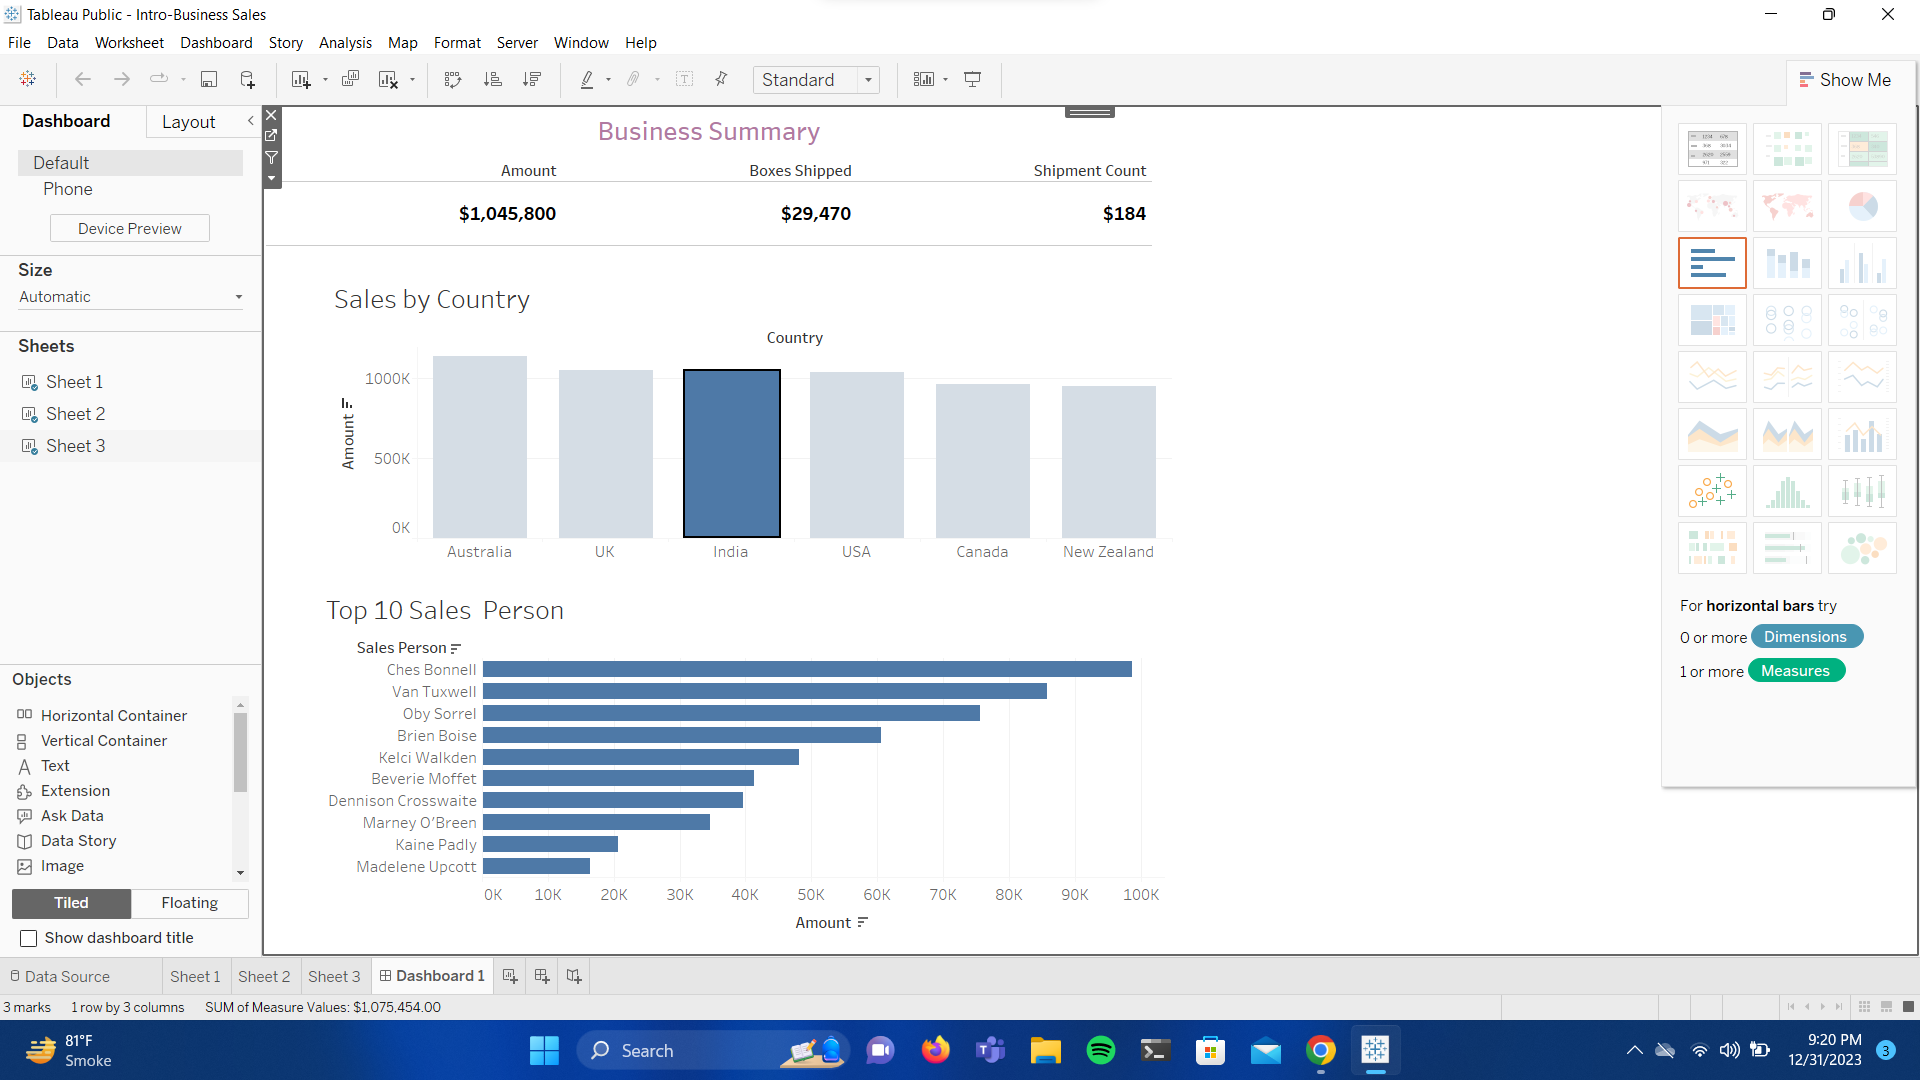

This screenshot's page, from the dashboard's own definition file:
{"tool":"tableau","page":{"name":"Dashboard 1","canvas":[1000,1000],"units":"permille","ordinal":0},"visuals":[{"type":"worksheet","title":"Sheet 3","mark":"Automatic","box":[0,0,1000,1000]},{"type":"worksheet","title":"Sheet 1","mark":"Automatic","rows":["Amount"],"cols":["Country"],"box":[41,202.1,508.8,353.7]},{"type":"worksheet","title":"Sheet 2","mark":"Automatic","rows":["Sales Person"],"cols":["Amount"],"box":[36.2,567.6,508.8,413.6]}]}

Visuals, with their boxes on the dashboard's canvas, which has no fixed pixel size, in thousandths of its width and height (x1, y1, x2, y2). These are canvas units, not pixel positions in the 1920x1080 screenshot, which may show the page scaled, cropped or inside an application window:
"Sheet 3" worksheet: region(0, 0, 1000, 1000)
"Sheet 1" worksheet: region(41, 202, 550, 556)
"Sheet 2" worksheet: region(36, 568, 545, 981)
